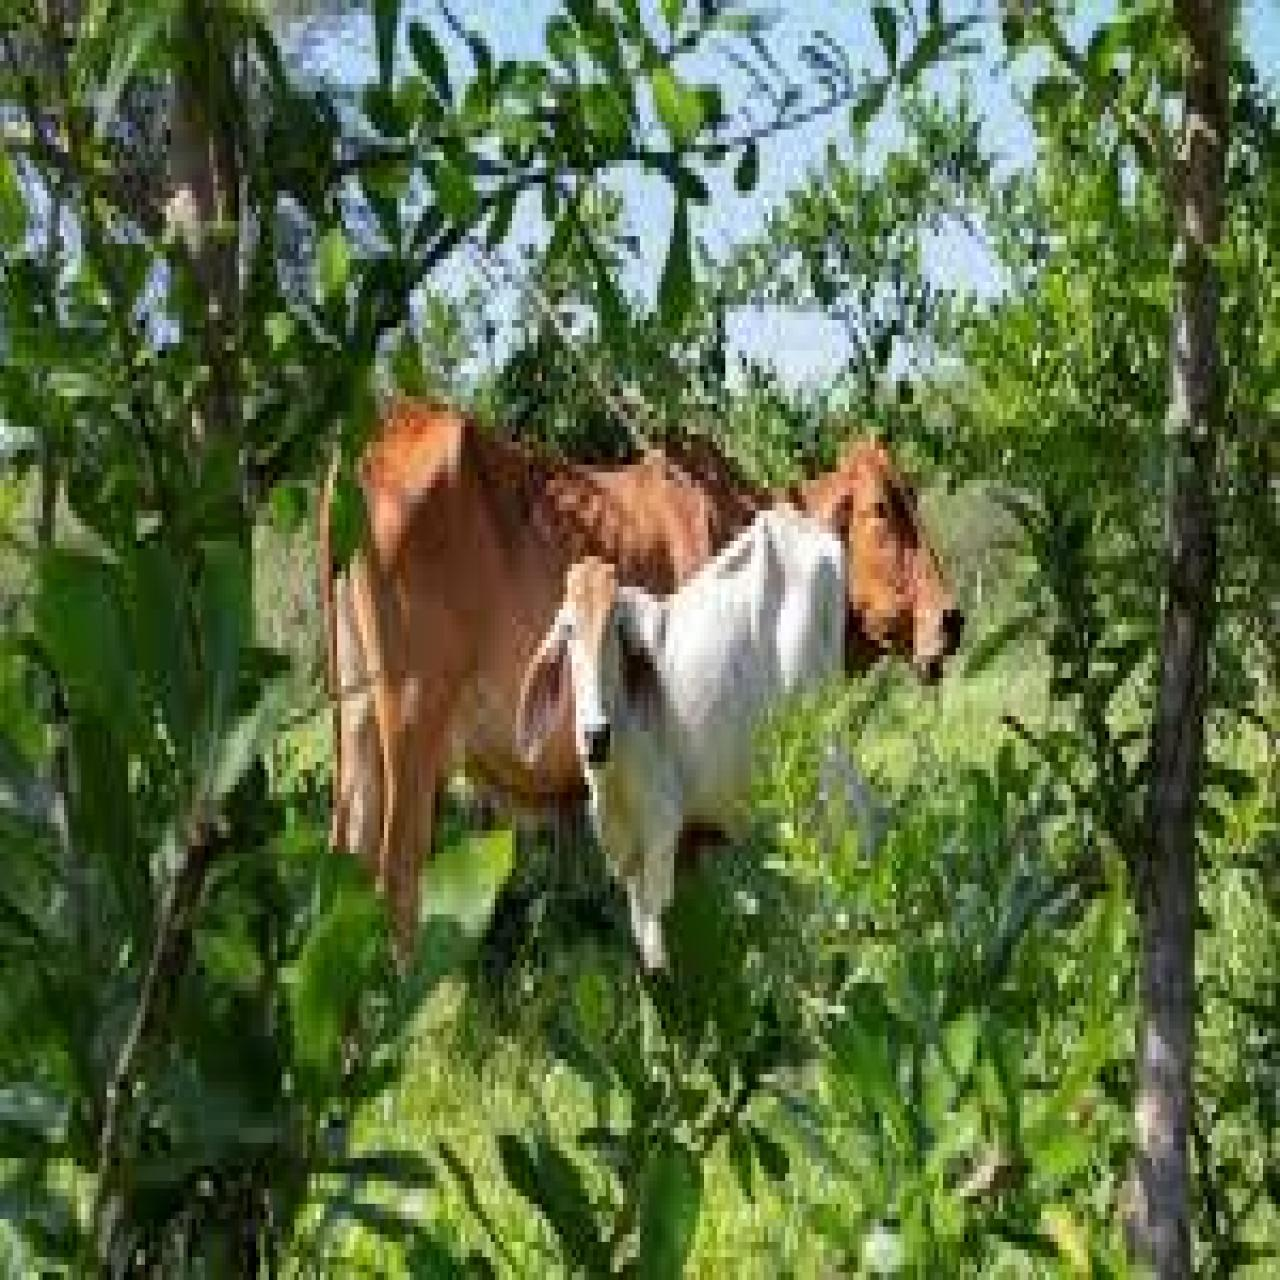cow: (320, 408, 965, 979), (515, 506, 847, 979)
